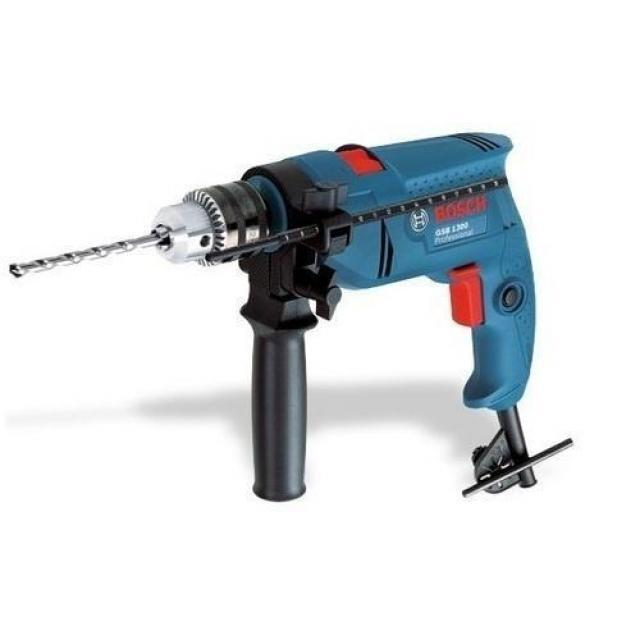drill: (6, 131, 580, 504)
